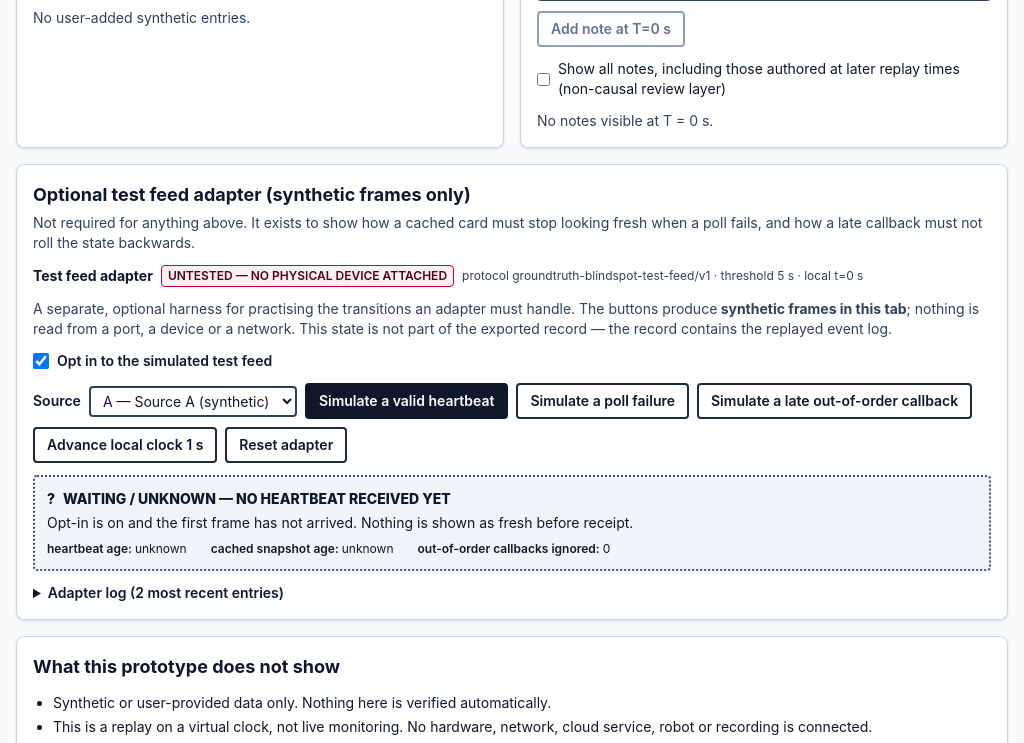
Test case: adapter panel drives the real state machine › advancing the local clock past the threshold shows stale, with a growing age
Earlier steps of the test are not shown.
(page scrolled)
Click the button with test id "adapter-send": click(407, 401) [305, 383, 508, 419]
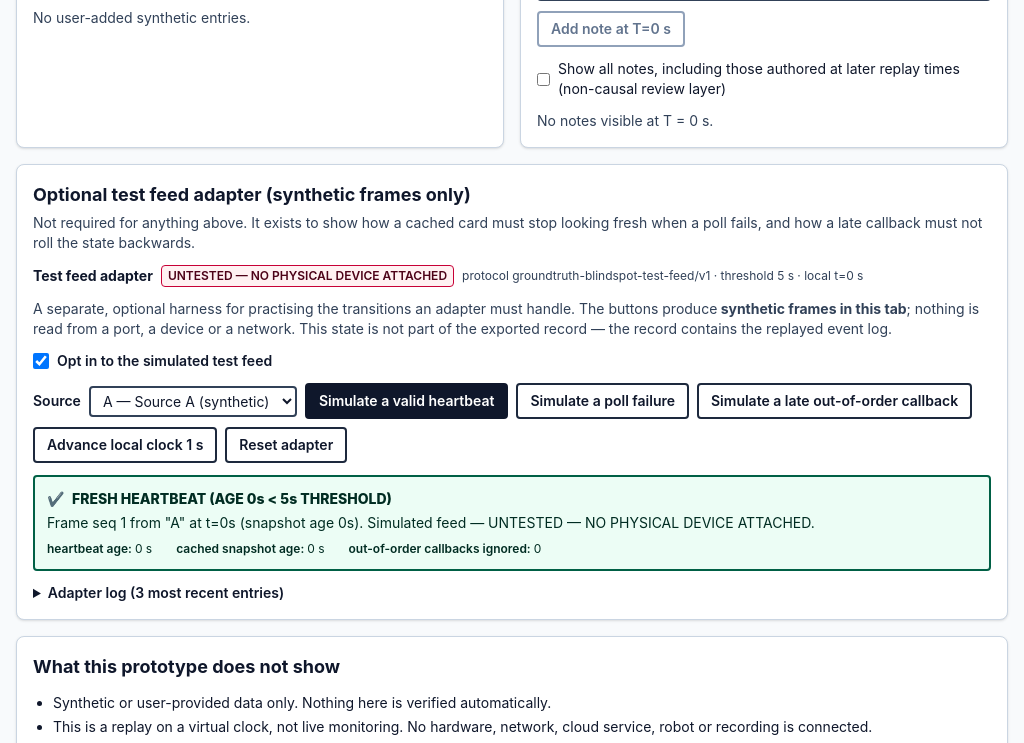
Click the button with test id "adapter-advance": click(125, 445) [33, 427, 217, 463]
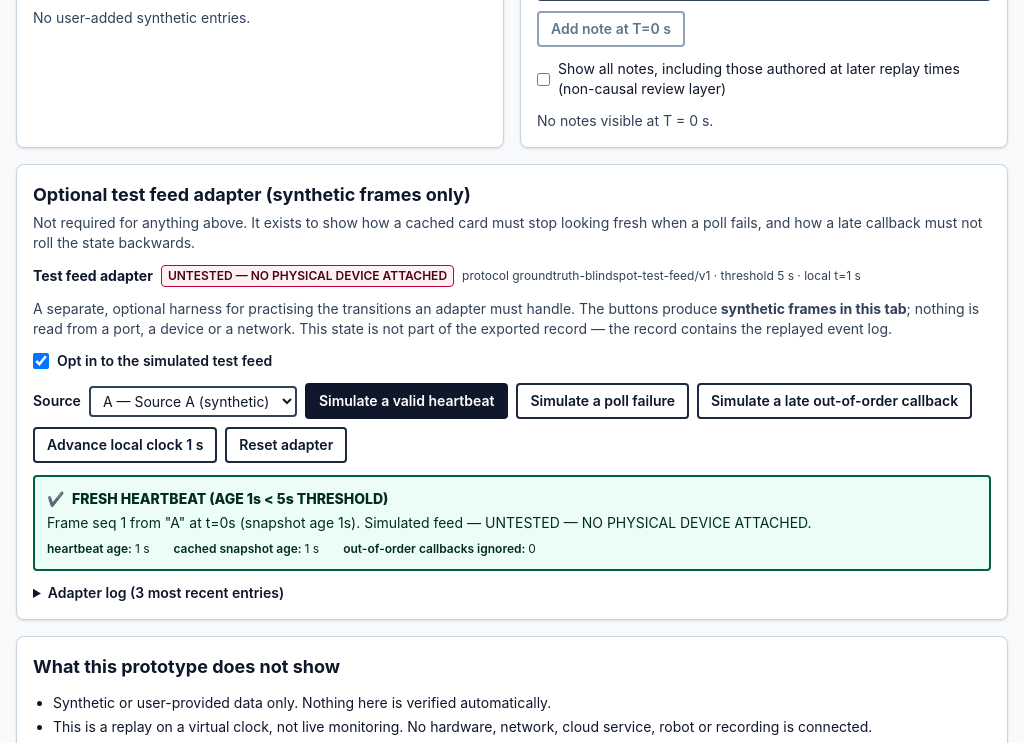
Click the button with test id "adapter-advance": click(125, 445) [33, 427, 217, 463]
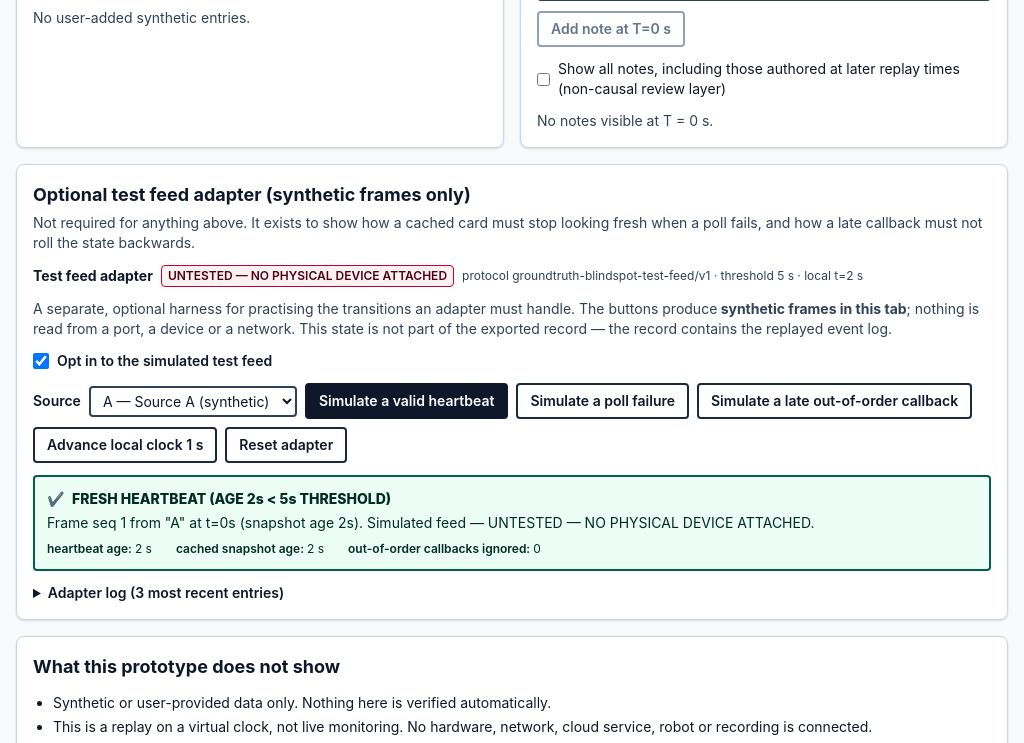
Click the button with test id "adapter-advance": click(125, 445) [33, 427, 217, 463]
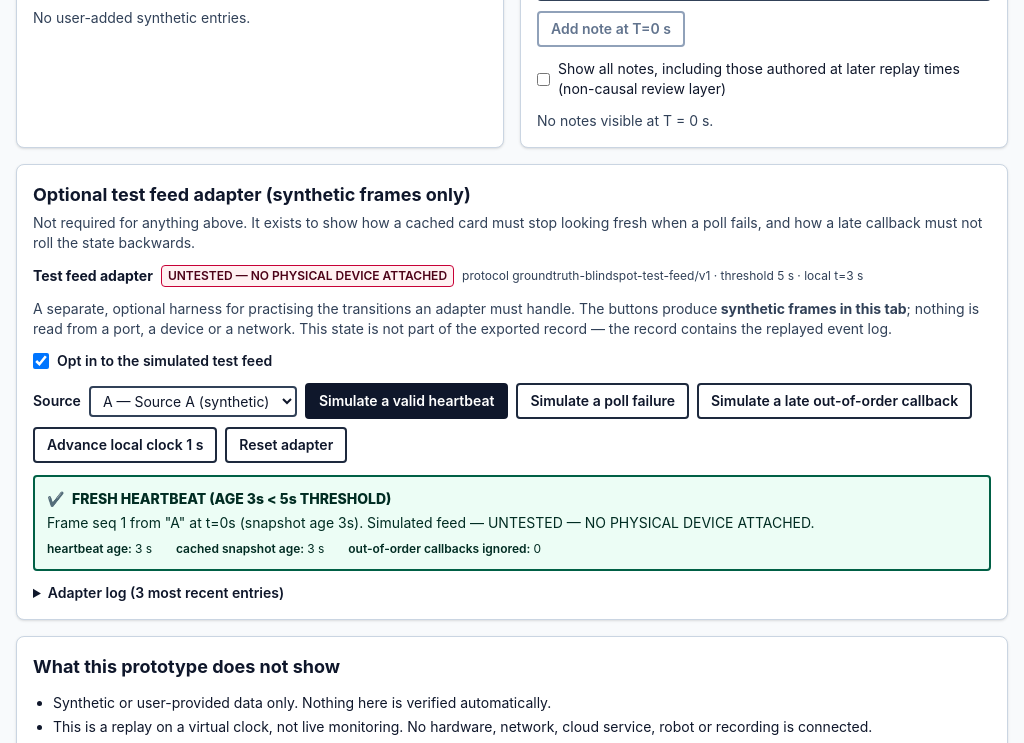
Click the button with test id "adapter-advance": click(125, 445) [33, 427, 217, 463]
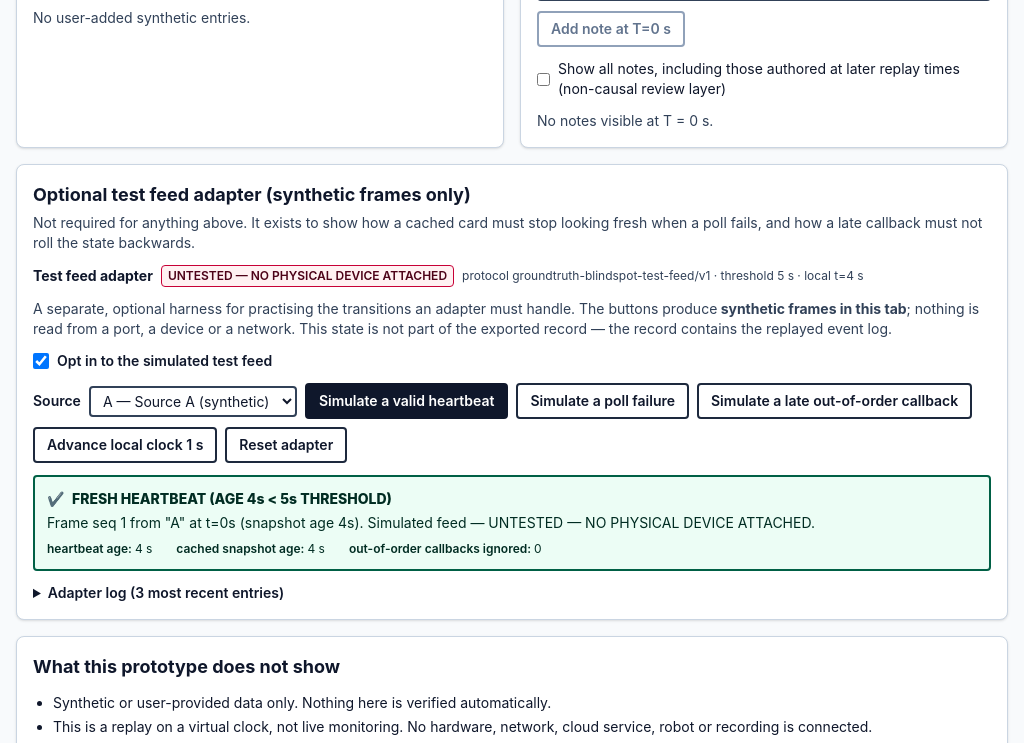
Click the button with test id "adapter-advance": click(125, 445) [33, 427, 217, 463]
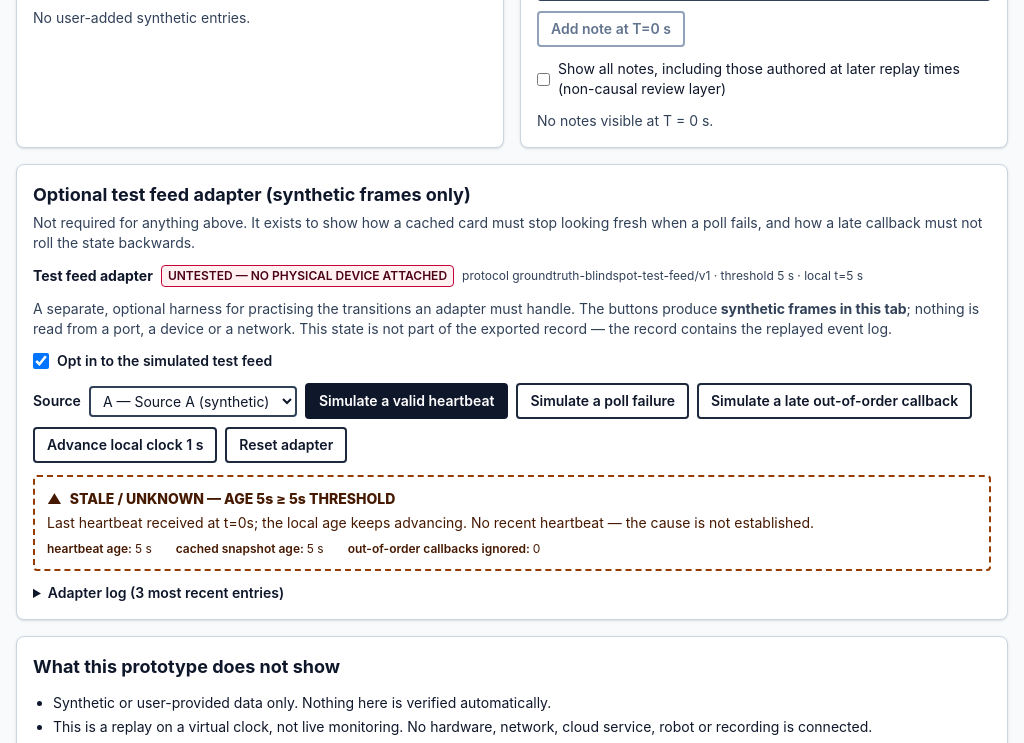
Expected: the element with test id "adapter-card" shows "AGE 5s", [70, 490, 395, 507]
